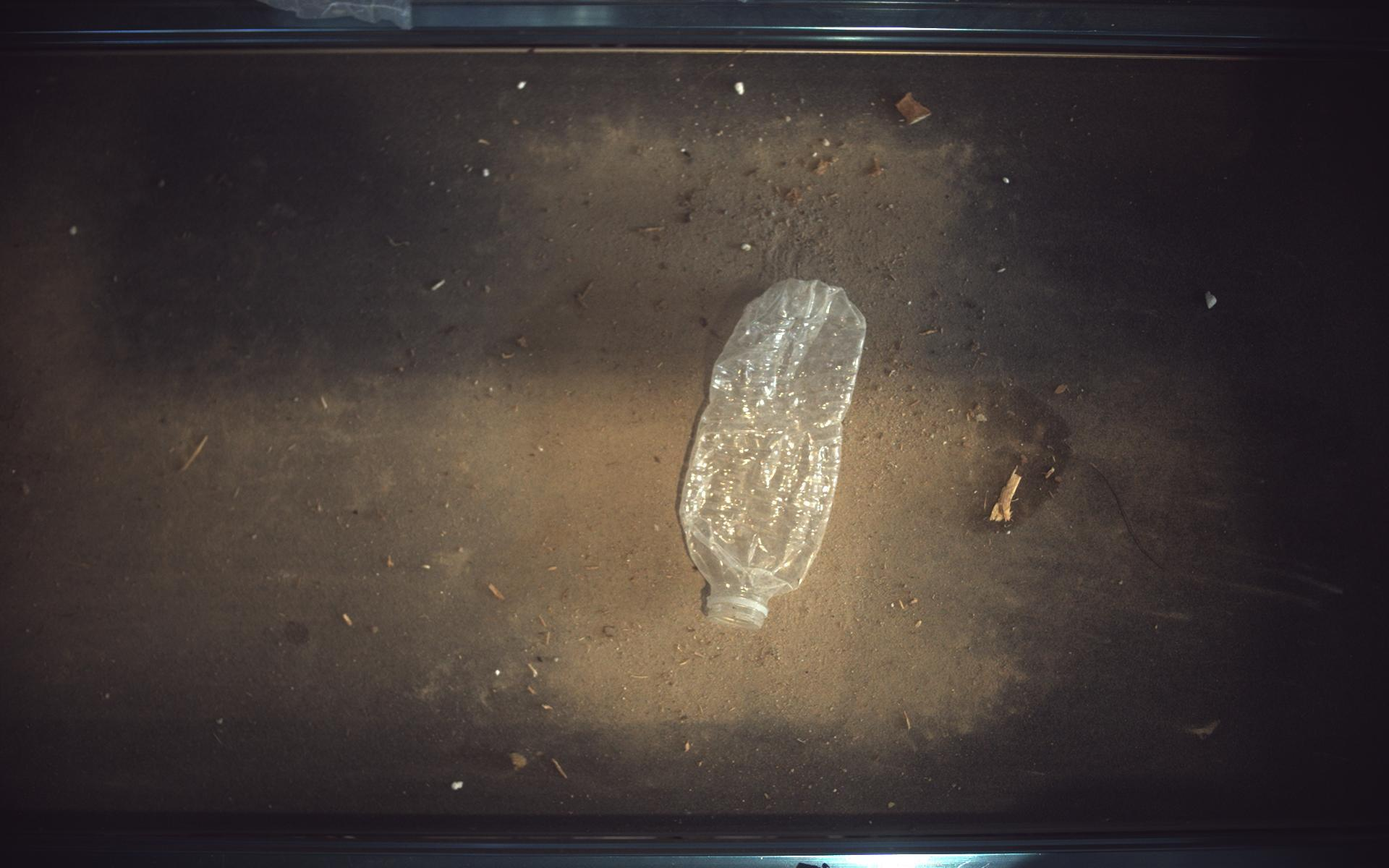general_w: (680, 278, 867, 630)
